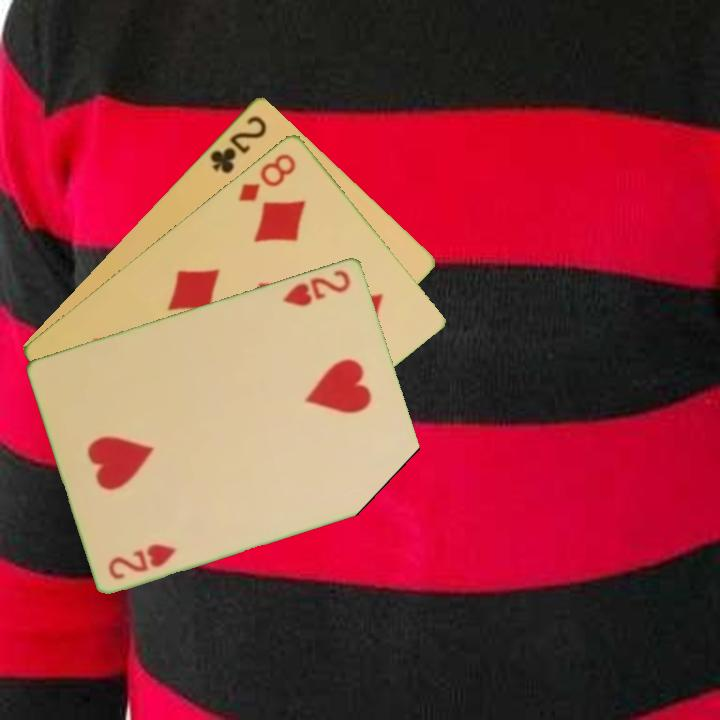2c: (206, 111, 270, 176)
2h: (279, 265, 354, 309), (105, 539, 179, 582)
8d: (234, 149, 299, 204)
